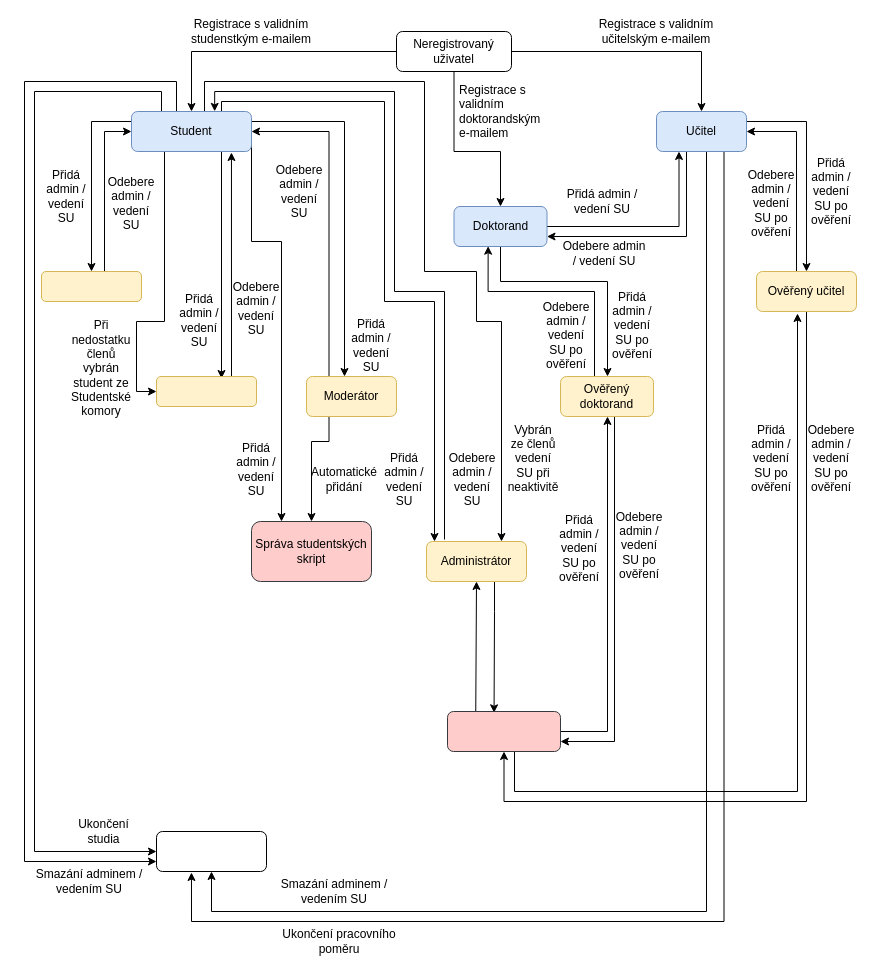
The diagram is 874 pixels wide and 973 high, and some of its shapes have lost their labels. The shapes that lost their labels are listed below. From the top down, each one's centre as x and y in pixels, then its label:
At [91,286]: "Člen SU".
At [206,391]: "Vedení SU".
At [503,731]: "Přístup k písemkám".
At [211,851]: "Smazaný uživatel".
